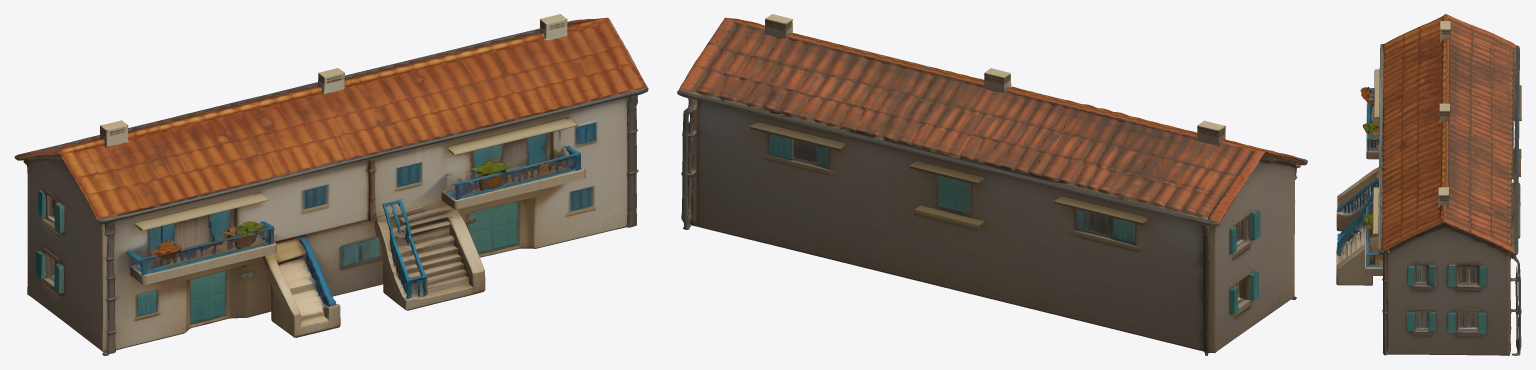
The model's file is r3_kibbutz_row_c.glb.
3 views of the same model, side by side, from view 1: azimuth 30°, elevation 25°; view 2: azimuth 150°, elevation 25°; view 3: azimuth 270°, elevation 25° (orthographic). The views are drawn at different scales.
Parts seen in each view (by area): view 1: geometry_0; view 2: geometry_0; view 3: geometry_0.
Boxes of the visible parts, x1,y1,x2,y2 form: geometry_0: (14, 14, 648, 355); geometry_0: (677, 14, 1307, 355); geometry_0: (1336, 14, 1521, 355).
Bounding box in the file's own units: 24 × 8 × 9.
1 material, 1 textured.
